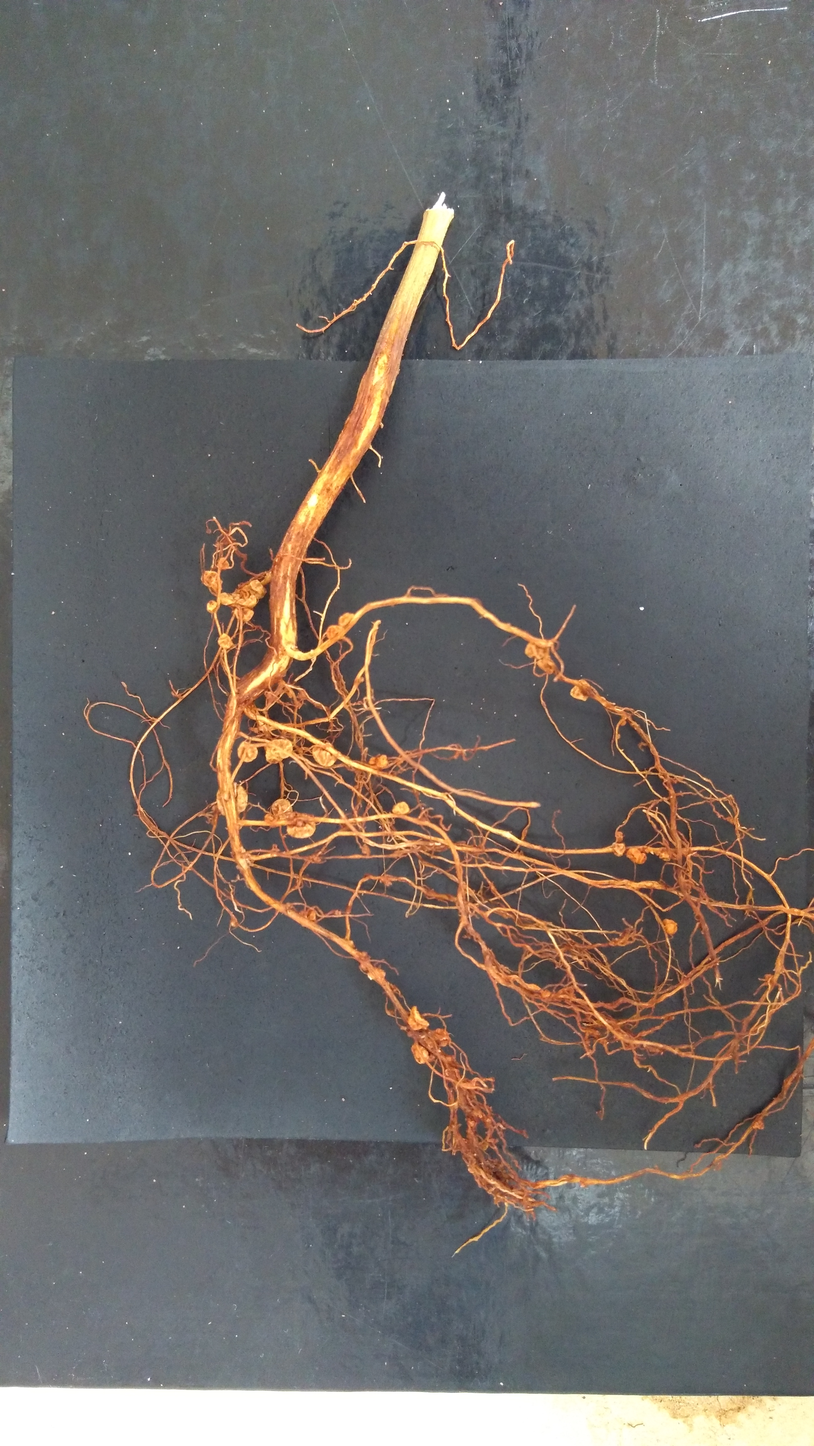nodule: (215, 782, 250, 816), (262, 737, 294, 765), (285, 813, 319, 839), (262, 798, 294, 824), (311, 741, 339, 767), (406, 1004, 431, 1031), (568, 678, 592, 703), (236, 740, 259, 764), (410, 1042, 430, 1066), (523, 641, 548, 660), (625, 846, 648, 866), (660, 917, 681, 937), (535, 656, 556, 676), (434, 1027, 451, 1049), (200, 570, 219, 588), (357, 951, 373, 972), (233, 607, 255, 622), (216, 632, 235, 649), (235, 594, 257, 608), (337, 612, 356, 628), (326, 625, 346, 640), (391, 801, 410, 816), (217, 591, 236, 606), (366, 966, 386, 980), (610, 842, 626, 858), (249, 579, 264, 594), (205, 599, 218, 616), (375, 754, 389, 769), (614, 829, 625, 844), (217, 557, 229, 570), (659, 851, 671, 863), (361, 844, 371, 855), (309, 911, 318, 921), (368, 756, 376, 766), (620, 719, 627, 727), (617, 733, 621, 740)
